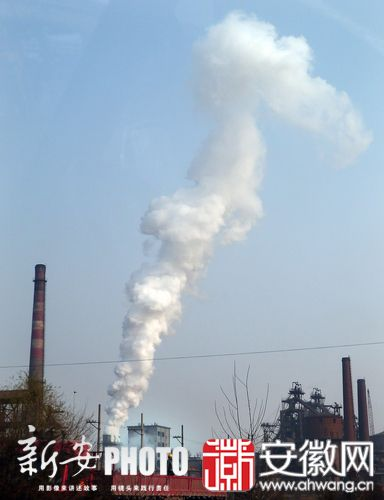dust: (91, 273, 192, 442)
